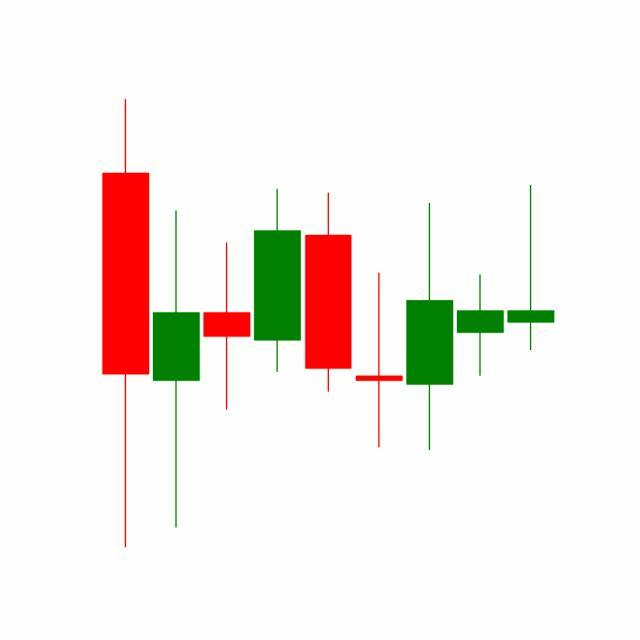Hikkake Pattern: (302, 183, 555, 454)
